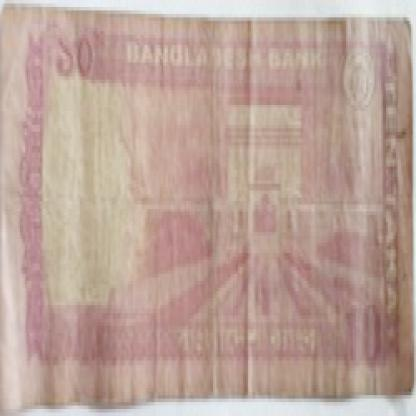Ten Taka: (341, 288, 383, 374), (53, 24, 97, 90)
